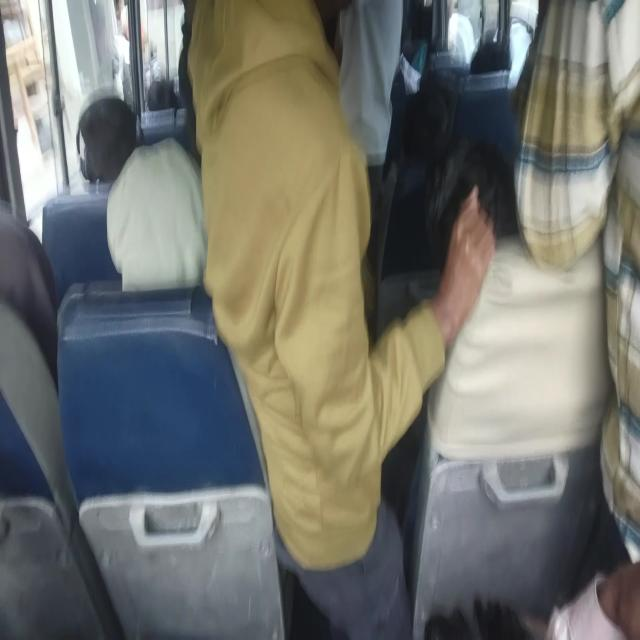person: (191, 1, 382, 541), (521, 6, 640, 587), (120, 150, 206, 305), (0, 208, 70, 342), (343, 0, 403, 144), (79, 99, 139, 201), (448, 147, 509, 247), (417, 100, 472, 175), (145, 80, 184, 132), (477, 31, 513, 86)
